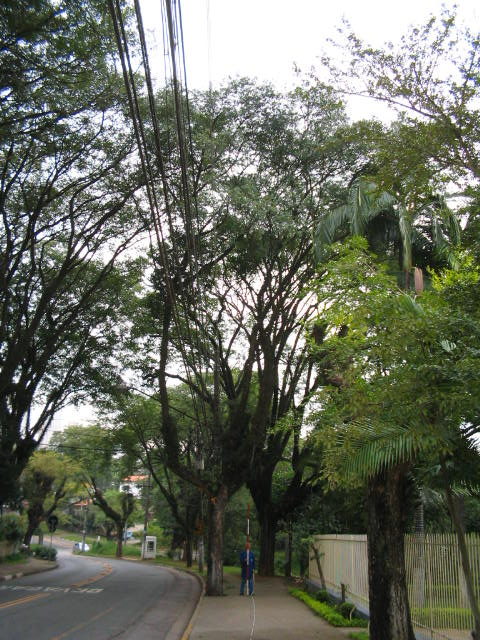stem: (201, 494, 231, 594)
stick: (239, 506, 255, 596)
